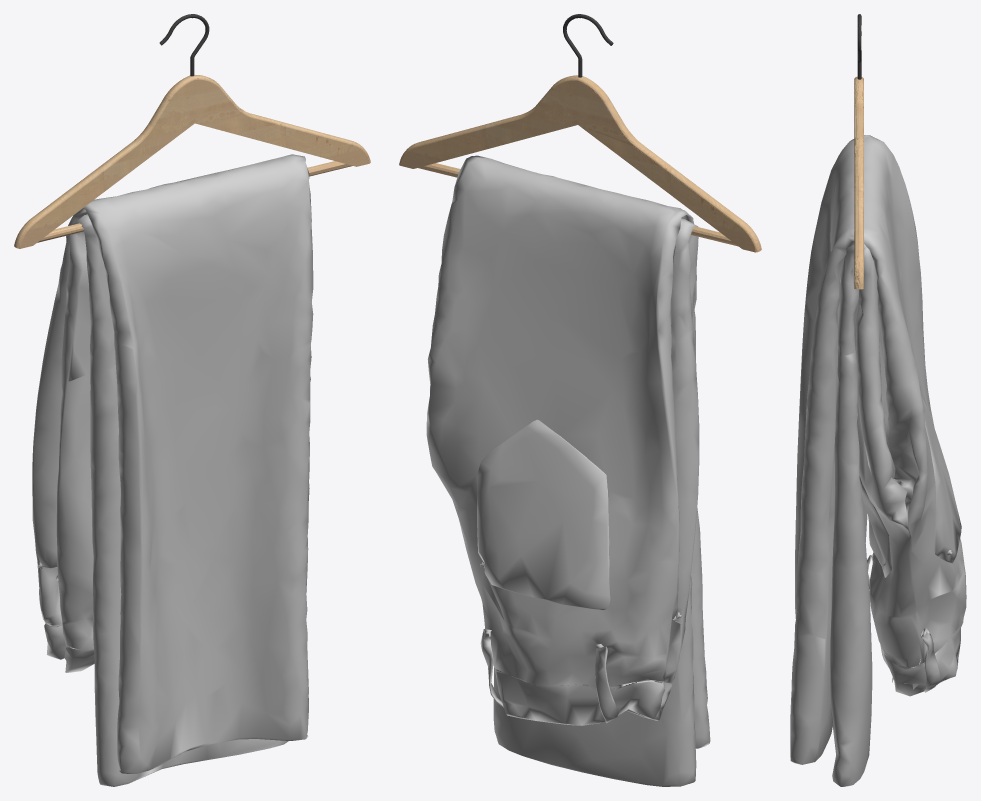
File: Jeans.FBX
The picture shows the model from 3 angles, left to right: view 1: azimuth 30°, elevation 25°; view 2: azimuth 150°, elevation 25°; view 3: azimuth 270°, elevation 25°; orthographic projection. The views are drawn at different scales.
Visible parts, largest first — view 1: Jeans, hanger; view 2: Jeans, hanger; view 3: Jeans, hanger.
Part boxes in pixels (bbox=[...]): Jeans: bbox=[32, 154, 313, 786]; hanger: bbox=[14, 14, 370, 248]; Jeans: bbox=[426, 155, 710, 786]; hanger: bbox=[399, 14, 761, 252]; Jeans: bbox=[790, 135, 966, 786]; hanger: bbox=[854, 14, 863, 289].
Size of the model in its own units: 380 by 166 by 758.
